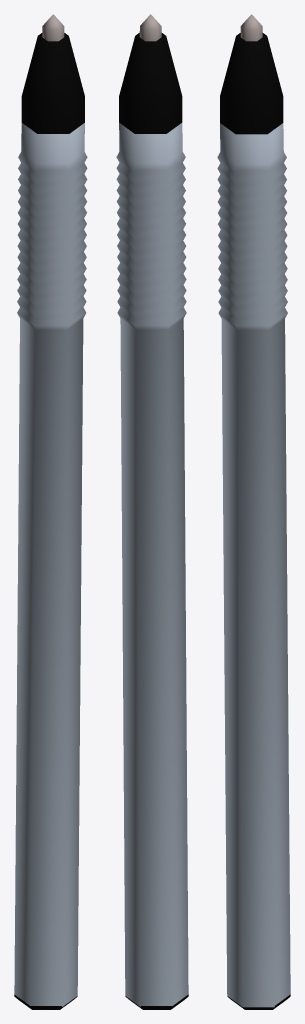
Rendered from Pen.fbx.
3 renders of one model, left to right at view 1: azimuth 90°, elevation 25°; view 2: azimuth 210°, elevation 25°; view 3: azimuth 270°, elevation 25°, orthographic.
Parts seen in each view (by area): view 1: Plane, Plane.001, Plane.002; view 2: Plane, Plane.001, Plane.002; view 3: Plane, Plane.001, Plane.002.
Boxes of the visible parts, bbox=[...] form: Plane: bbox=[14, 123, 87, 1006]; Plane.001: bbox=[21, 33, 84, 133]; Plane.002: bbox=[42, 14, 64, 41]; Plane: bbox=[116, 122, 188, 1006]; Plane.001: bbox=[119, 33, 182, 133]; Plane.002: bbox=[139, 14, 161, 41]; Plane: bbox=[217, 123, 290, 1007]; Plane.001: bbox=[220, 33, 283, 134]; Plane.002: bbox=[240, 14, 262, 41].
Bounding box in the file's own units: 1245 × 22414 × 1503.
